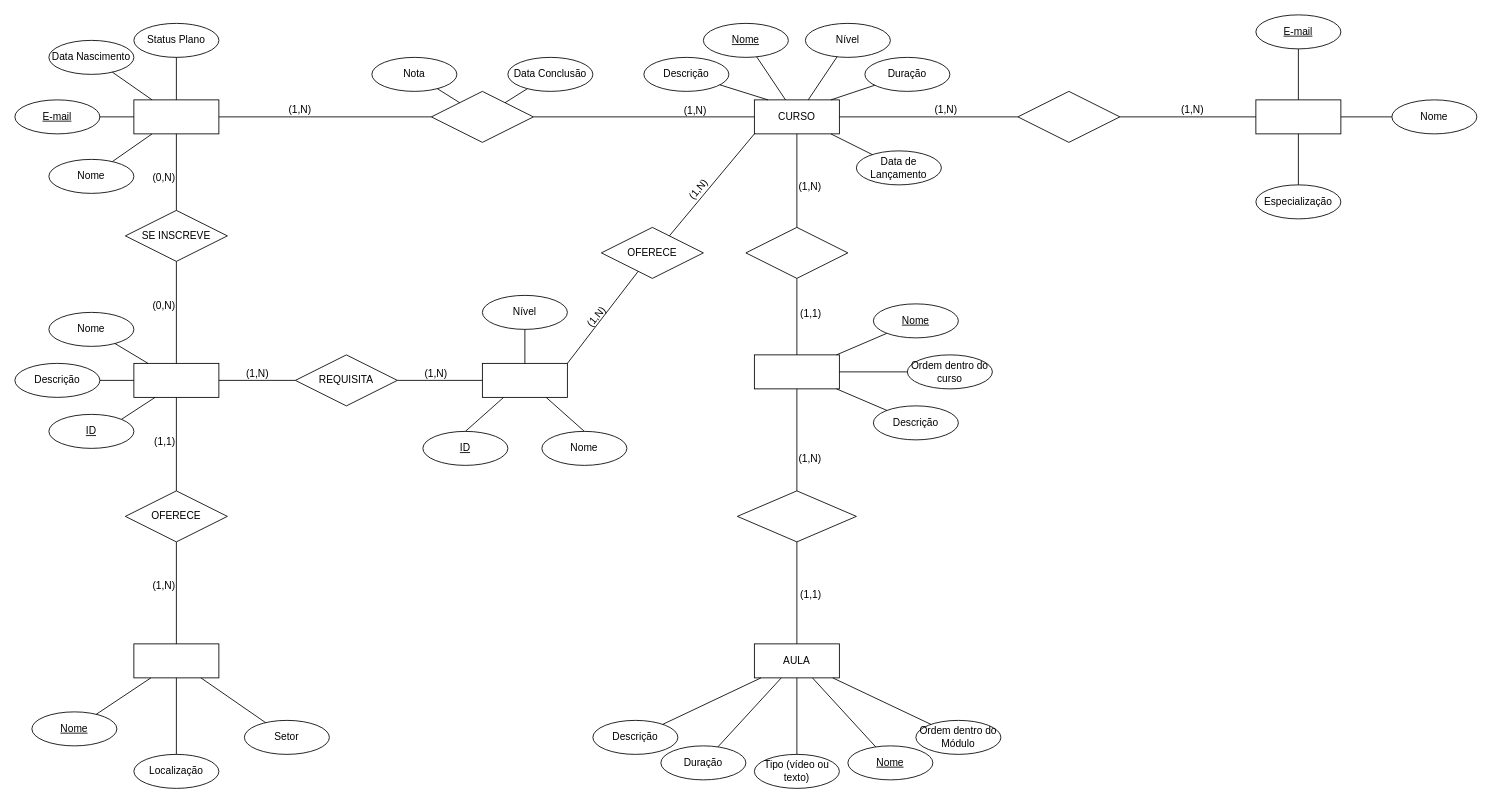
Image size: 1492x803. Some labels were removed from this diagram. The centre of each missing label's shape, as x and y in pixels:
ALUNO: point 176,116
CURSO CONTÉM: point 796,252
EMPRESA: point 176,660
ESTUDA: point 482,116
HABILIDADE: point 524,380
MINISTRA: point 1068,116
MÓDULO: point 796,371
MÓDULO CONTÉM: point 796,516
PROFESSOR: point 1298,116
VAGA: point 176,380
